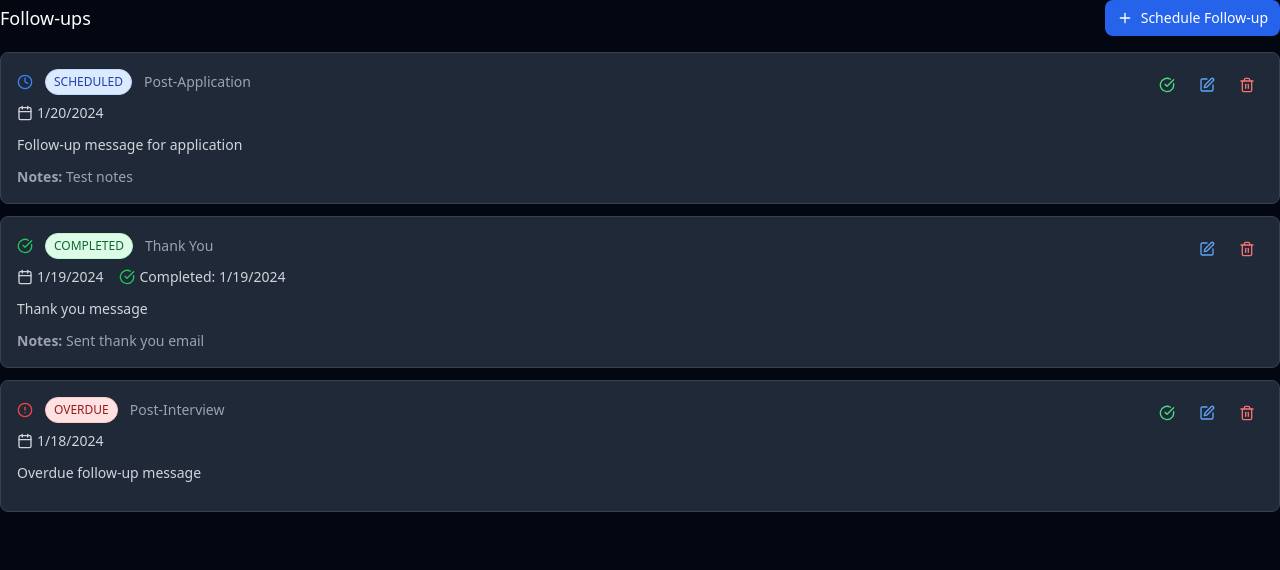
it: FollowUpList › opens create modal when Schedule Follow-up button is clicked
The width and height of the screenshot is (1280, 570).
Click the button "Schedule Follow-up": (1192, 18) top-left (1105, 0), bottom-right (1279, 36)
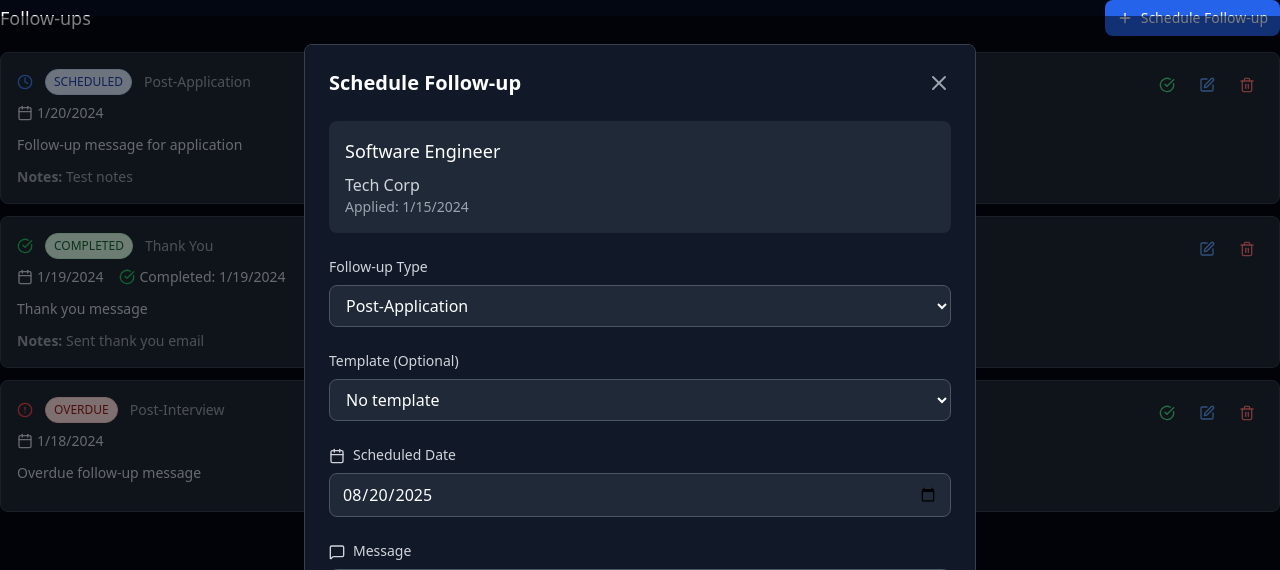
Check: the heading "Schedule Follow-up" is shown, box top-left (329, 69), bottom-right (521, 97)
